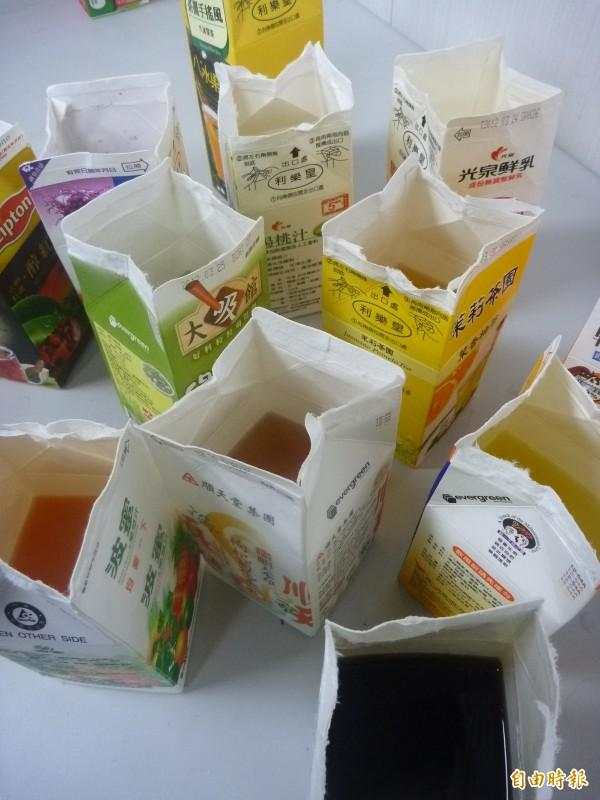cardboard: (0, 76, 267, 403), (156, 311, 398, 629), (319, 166, 532, 449), (409, 346, 600, 640), (0, 420, 200, 693), (307, 593, 562, 800), (194, 0, 353, 307), (386, 40, 565, 200)
